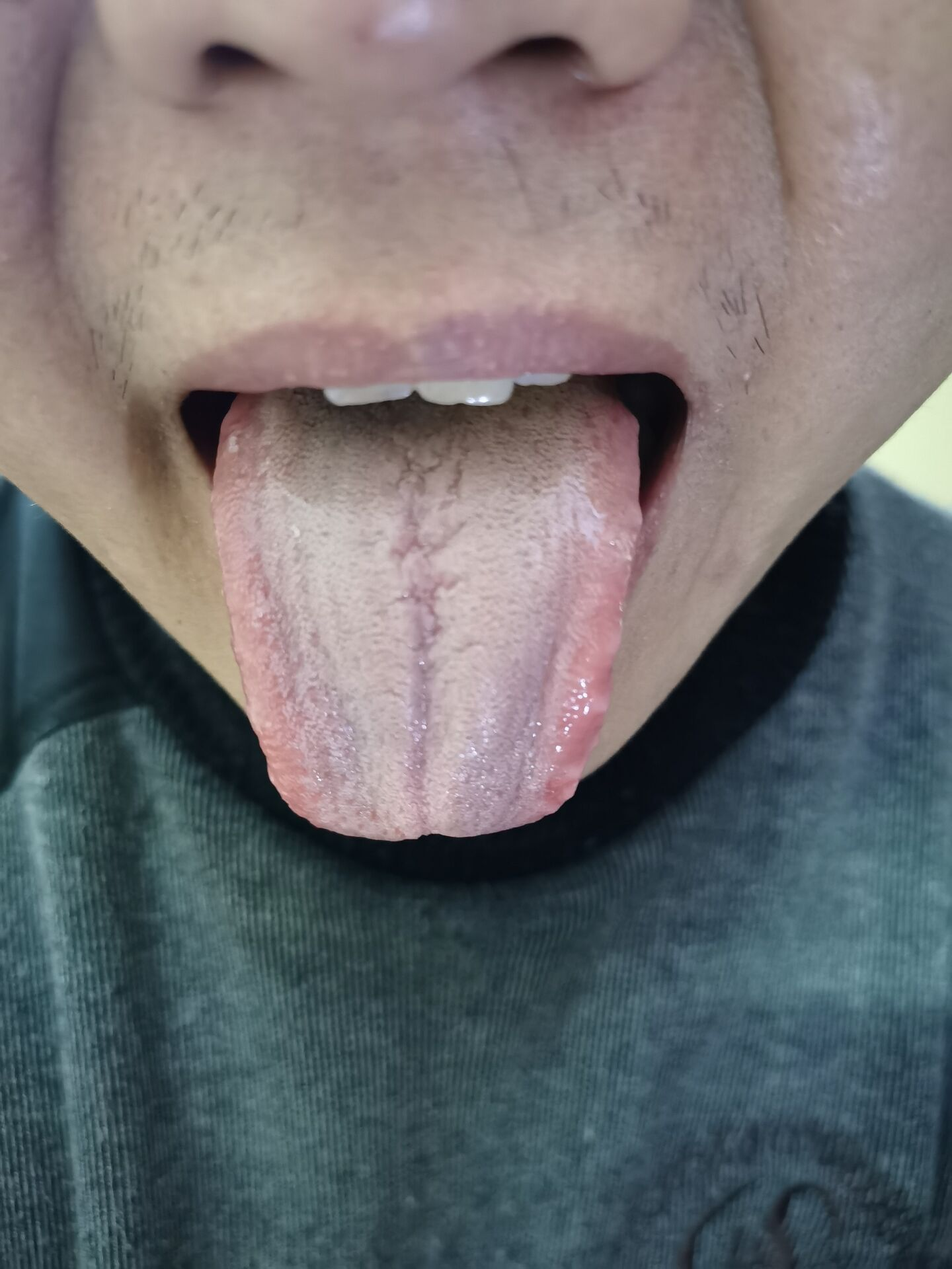baitaishe: (211, 388, 643, 843)
chihenshe: (573, 554, 630, 794)
liewenshe: (384, 442, 477, 758)
